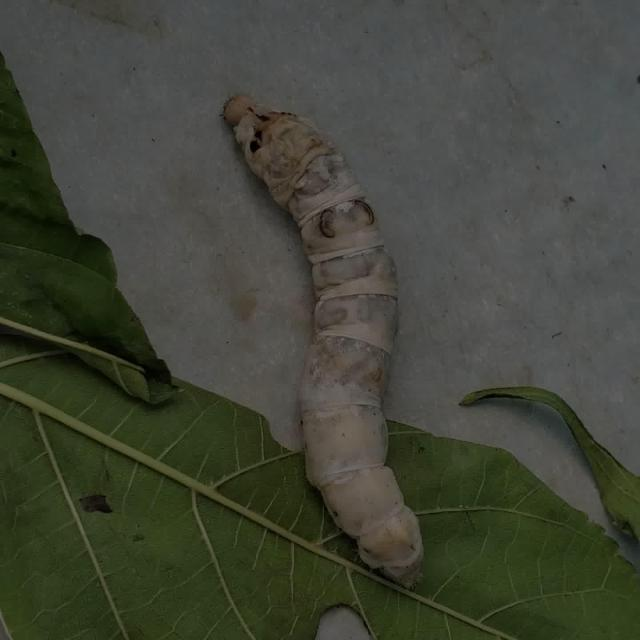Grasserie: (173, 44, 492, 600)
